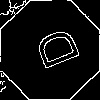D: (25, 25, 81, 76)
